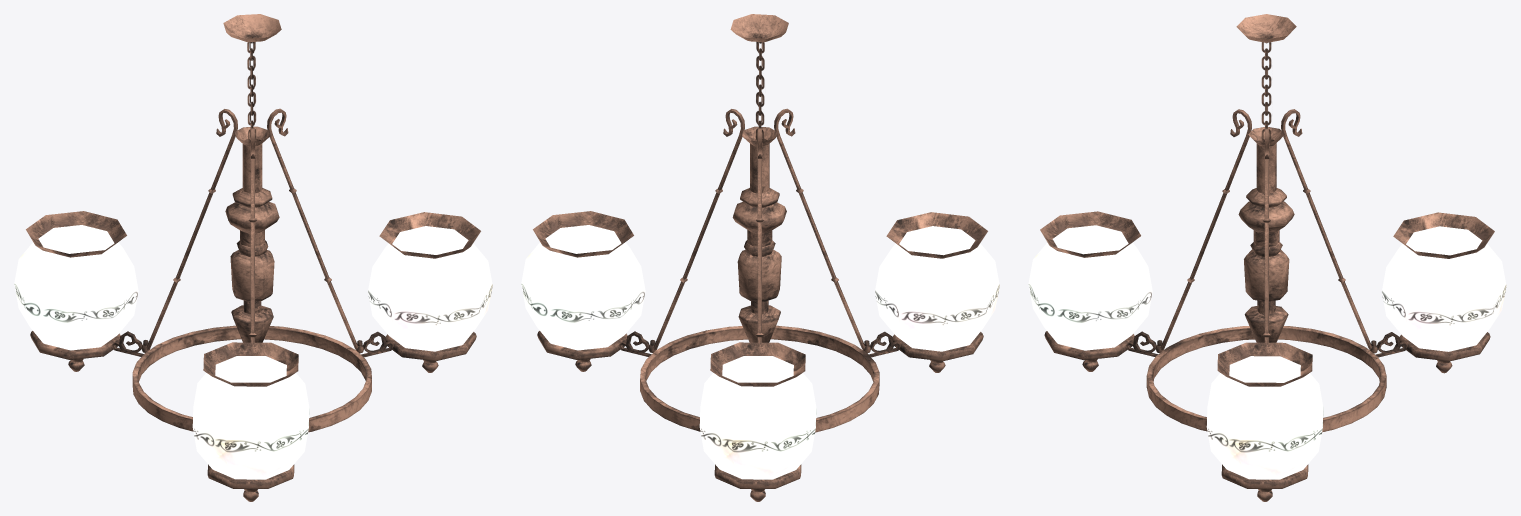
The model's file is ceiling_lamp_victorian_style.glb.
3 views of the same model, side by side, from view 1: azimuth 30°, elevation 25°; view 2: azimuth 150°, elevation 25°; view 3: azimuth 270°, elevation 25° (orthographic).
Visible parts, largest first — view 1: Cube.001, Cube, Circle, lAMP_low.001; view 2: Cube.001, Cube, Circle, lAMP_low.001; view 3: Cube.001, Cube, Circle, lAMP_low.001.
Part boxes in pixels (box(x1,y1,x2,y2)): Cube.001: box(14, 108, 492, 501); Cube: box(223, 14, 281, 342); Circle: box(132, 325, 371, 432); lAMP_low.001: box(247, 36, 256, 141); Cube.001: box(521, 108, 999, 501); Cube: box(730, 14, 788, 342); Circle: box(640, 325, 879, 432); lAMP_low.001: box(755, 36, 764, 141); Cube.001: box(1028, 109, 1506, 501); Cube: box(1236, 14, 1296, 342); Circle: box(1146, 326, 1386, 432); lAMP_low.001: box(1261, 36, 1271, 141).
Size of the model in its own units: 0.6902 by 0.6901 by 0.771.
1 material, 1 textured.
